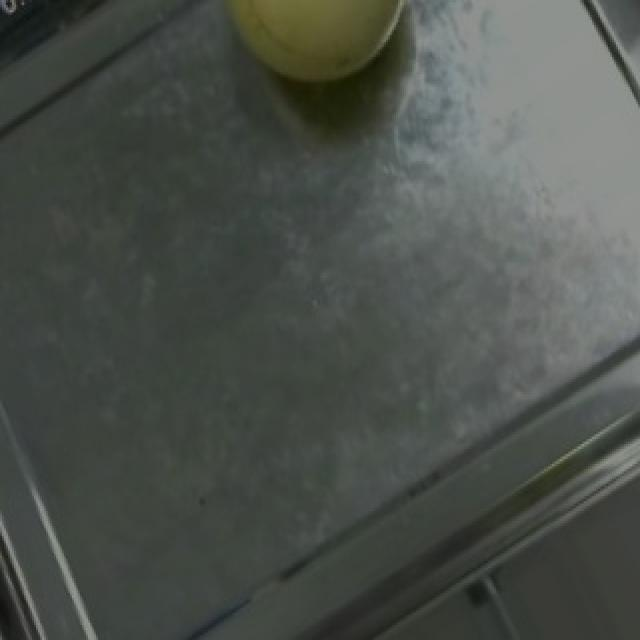Fruit: (186, 0, 438, 122)
